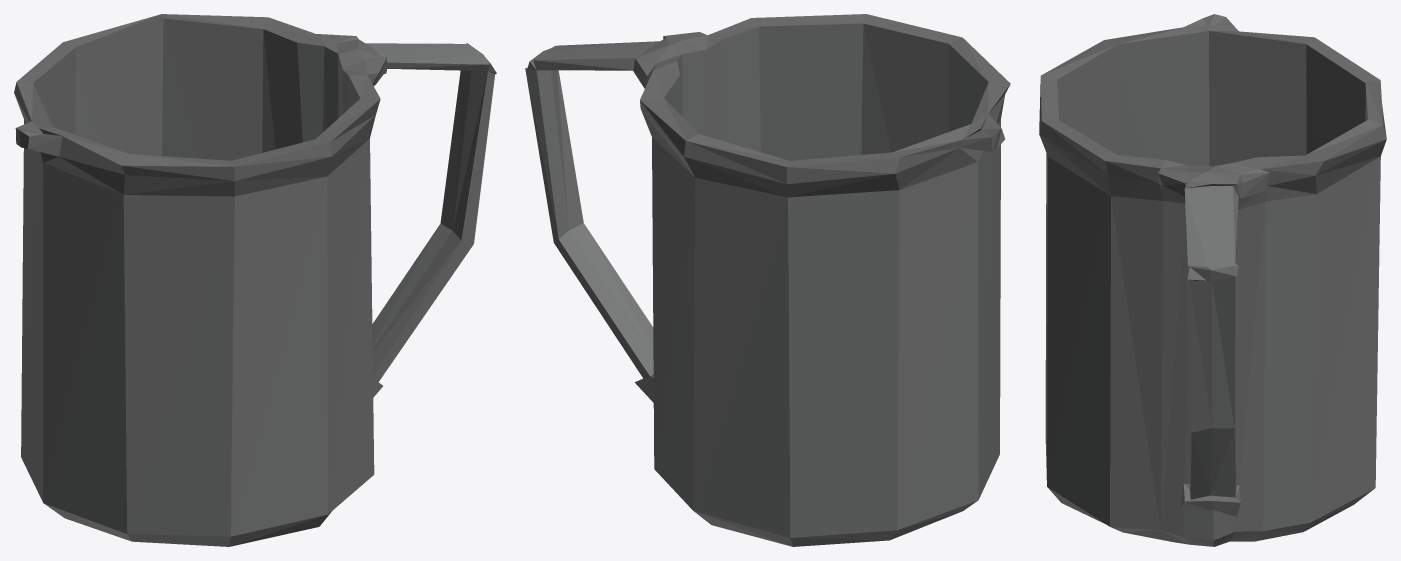
File: SFFA_Cup.fbx
3 renders of one model, left to right at view 1: azimuth 30°, elevation 25°; view 2: azimuth 150°, elevation 25°; view 3: azimuth 270°, elevation 25°, orthographic. The views are drawn at different scales.
Parts seen in each view (by area): view 1: SFFA_Cup; view 2: SFFA_Cup; view 3: SFFA_Cup.
Boxes of the visible parts, <box> form: SFFA_Cup: <box>14,14,496,546</box>; SFFA_Cup: <box>525,14,1010,546</box>; SFFA_Cup: <box>1039,14,1386,546</box>.
Bounding box in the file's own units: 15.34 × 12.55 × 10.17.
